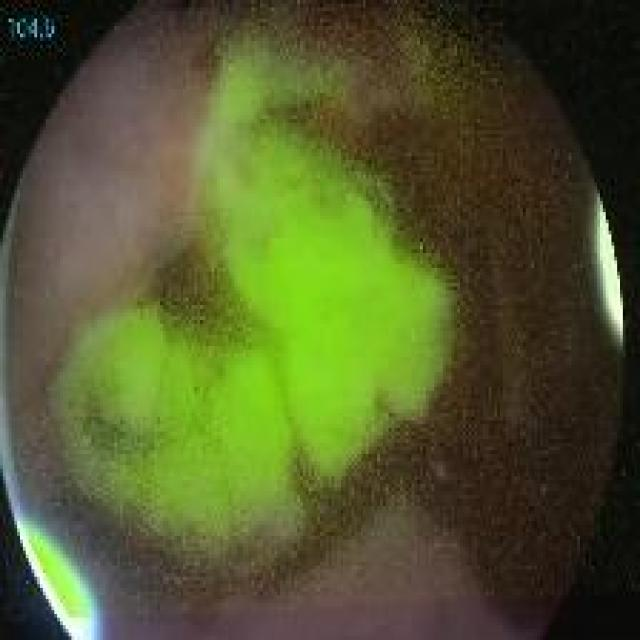color misalignment: (7, 11, 60, 46)
saturation: (20, 531, 92, 639), (594, 198, 622, 339)
